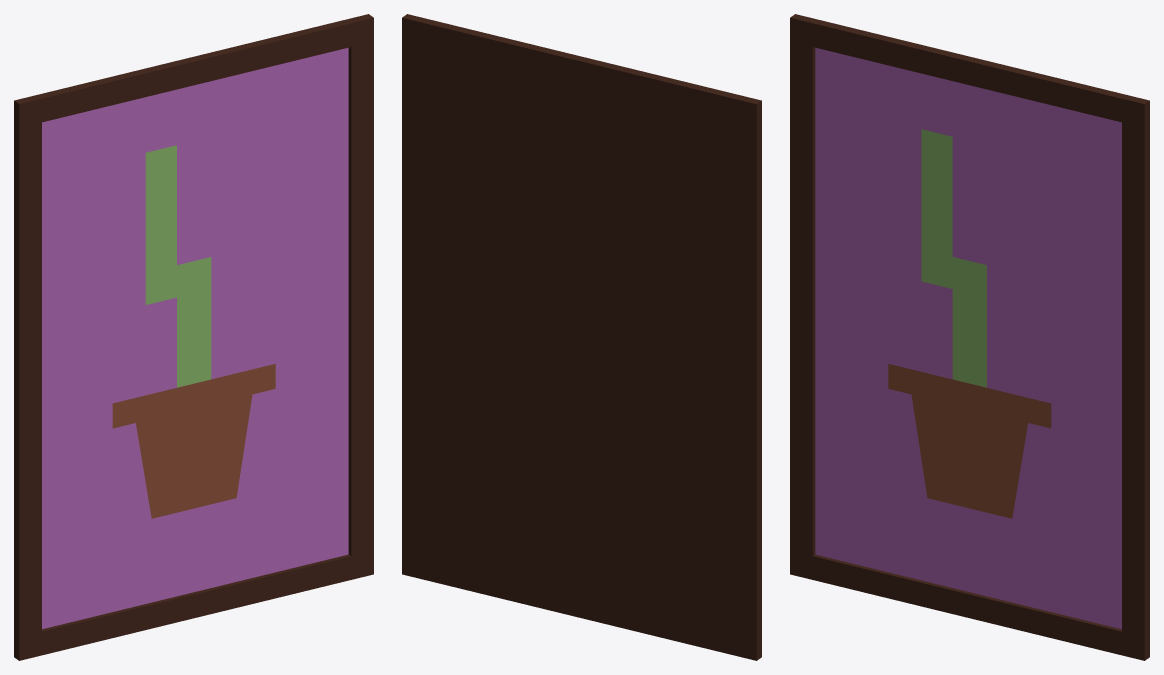
File: Int_WallPainting01_1.fbx
3 views of the same model, side by side, from view 1: azimuth 30°, elevation 25°; view 2: azimuth 150°, elevation 25°; view 3: azimuth 330°, elevation 25° (orthographic).
Parts seen in each view (by area): view 1: Int_WallPainting01_1; view 2: Int_WallPainting01_1; view 3: Int_WallPainting01_1.
Boxes of the visible parts, x1,y1,x2,y2 form: Int_WallPainting01_1: (14,14,373,660); Int_WallPainting01_1: (402,14,761,660); Int_WallPainting01_1: (790,14,1149,660).
Size of what is drawn, in the model's own units: 100 by 2.5 by 150.
